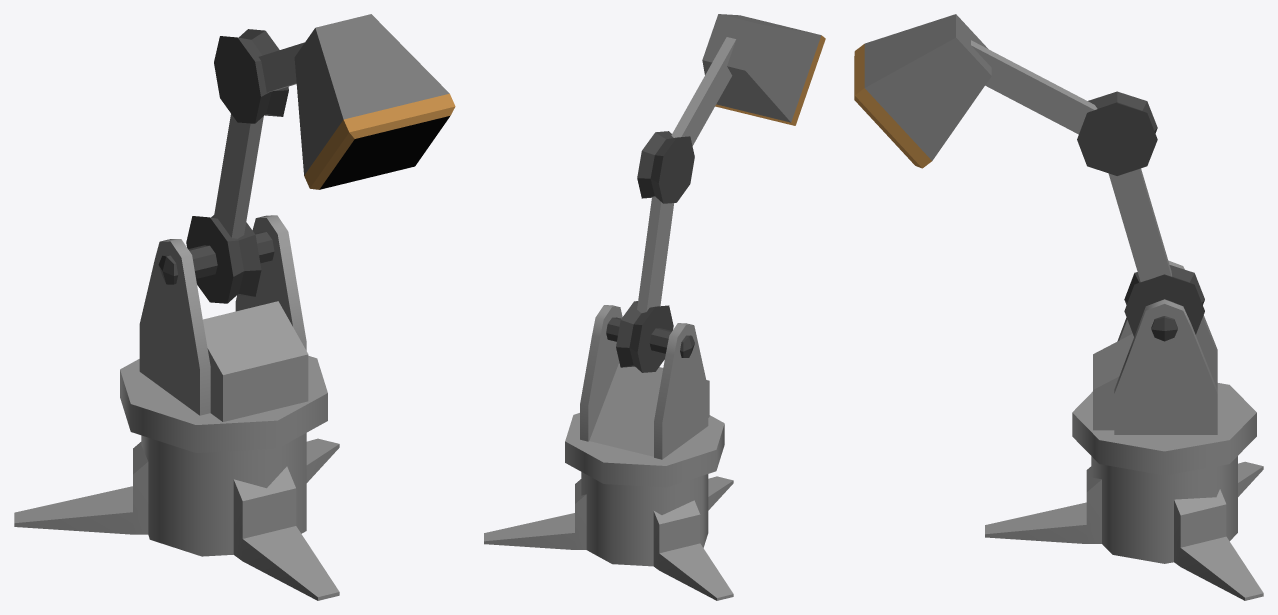
File: RobotArm.glb
The picture shows the model from 3 angles, left to right: view 1: azimuth 30°, elevation 25°; view 2: azimuth 150°, elevation 25°; view 3: azimuth 270°, elevation 25°; orthographic projection. The views are drawn at different scales.
Visible parts, largest first — view 1: Turret Cradle, Turret Base, ArmHand, SecondArmJoint, FirstArmJoint, FirstArmLength, ArmHoldingTube, SecondArmLength; view 2: Turret Cradle, Turret Base, ArmHand, SecondArmJoint, FirstArmJoint, FirstArmLength, SecondArmLength, ArmHoldingTube; view 3: Turret Cradle, Turret Base, ArmHand, SecondArmJoint, SecondArmLength, FirstArmLength, FirstArmJoint, ArmHoldingTube.
Boxes of the visible parts, left/top/right/bottom form: Turret Cradle: left=120, top=215, right=327, bottom=452; Turret Base: left=14, top=433, right=339, bottom=600; ArmHand: left=294, top=14, right=455, bottom=189; SecondArmJoint: left=214, top=29, right=288, bottom=123; FirstArmJoint: left=186, top=215, right=261, bottom=303; FirstArmLength: left=213, top=114, right=263, bottom=238; ArmHoldingTube: left=158, top=231, right=274, bottom=284; SecondArmLength: left=258, top=42, right=304, bottom=92; Turret Cradle: left=565, top=305, right=724, bottom=487; Turret Base: left=484, top=472, right=733, bottom=600; ArmHand: left=702, top=14, right=825, bottom=125; SecondArmJoint: left=637, top=131, right=694, bottom=203; FirstArmJoint: left=616, top=301, right=673, bottom=372; FirstArmLength: left=637, top=196, right=674, bottom=313; SecondArmLength: left=671, top=37, right=735, bottom=145; ArmHoldingTube: left=606, top=317, right=694, bottom=357; Turret Cradle: left=1072, top=260, right=1256, bottom=475; Turret Base: left=985, top=456, right=1263, bottom=600; ArmHand: left=854, top=14, right=991, bottom=168; SecondArmJoint: left=1077, top=91, right=1157, bottom=175; SecondArmLength: left=971, top=40, right=1097, bottom=134; FirstArmLength: left=1108, top=168, right=1172, bottom=281; FirstArmJoint: left=1124, top=265, right=1204, bottom=336; ArmHoldingTube: left=1151, top=299, right=1177, bottom=341.
Bounding box in the file's own units: 1.36 × 2.36 × 1.73.
